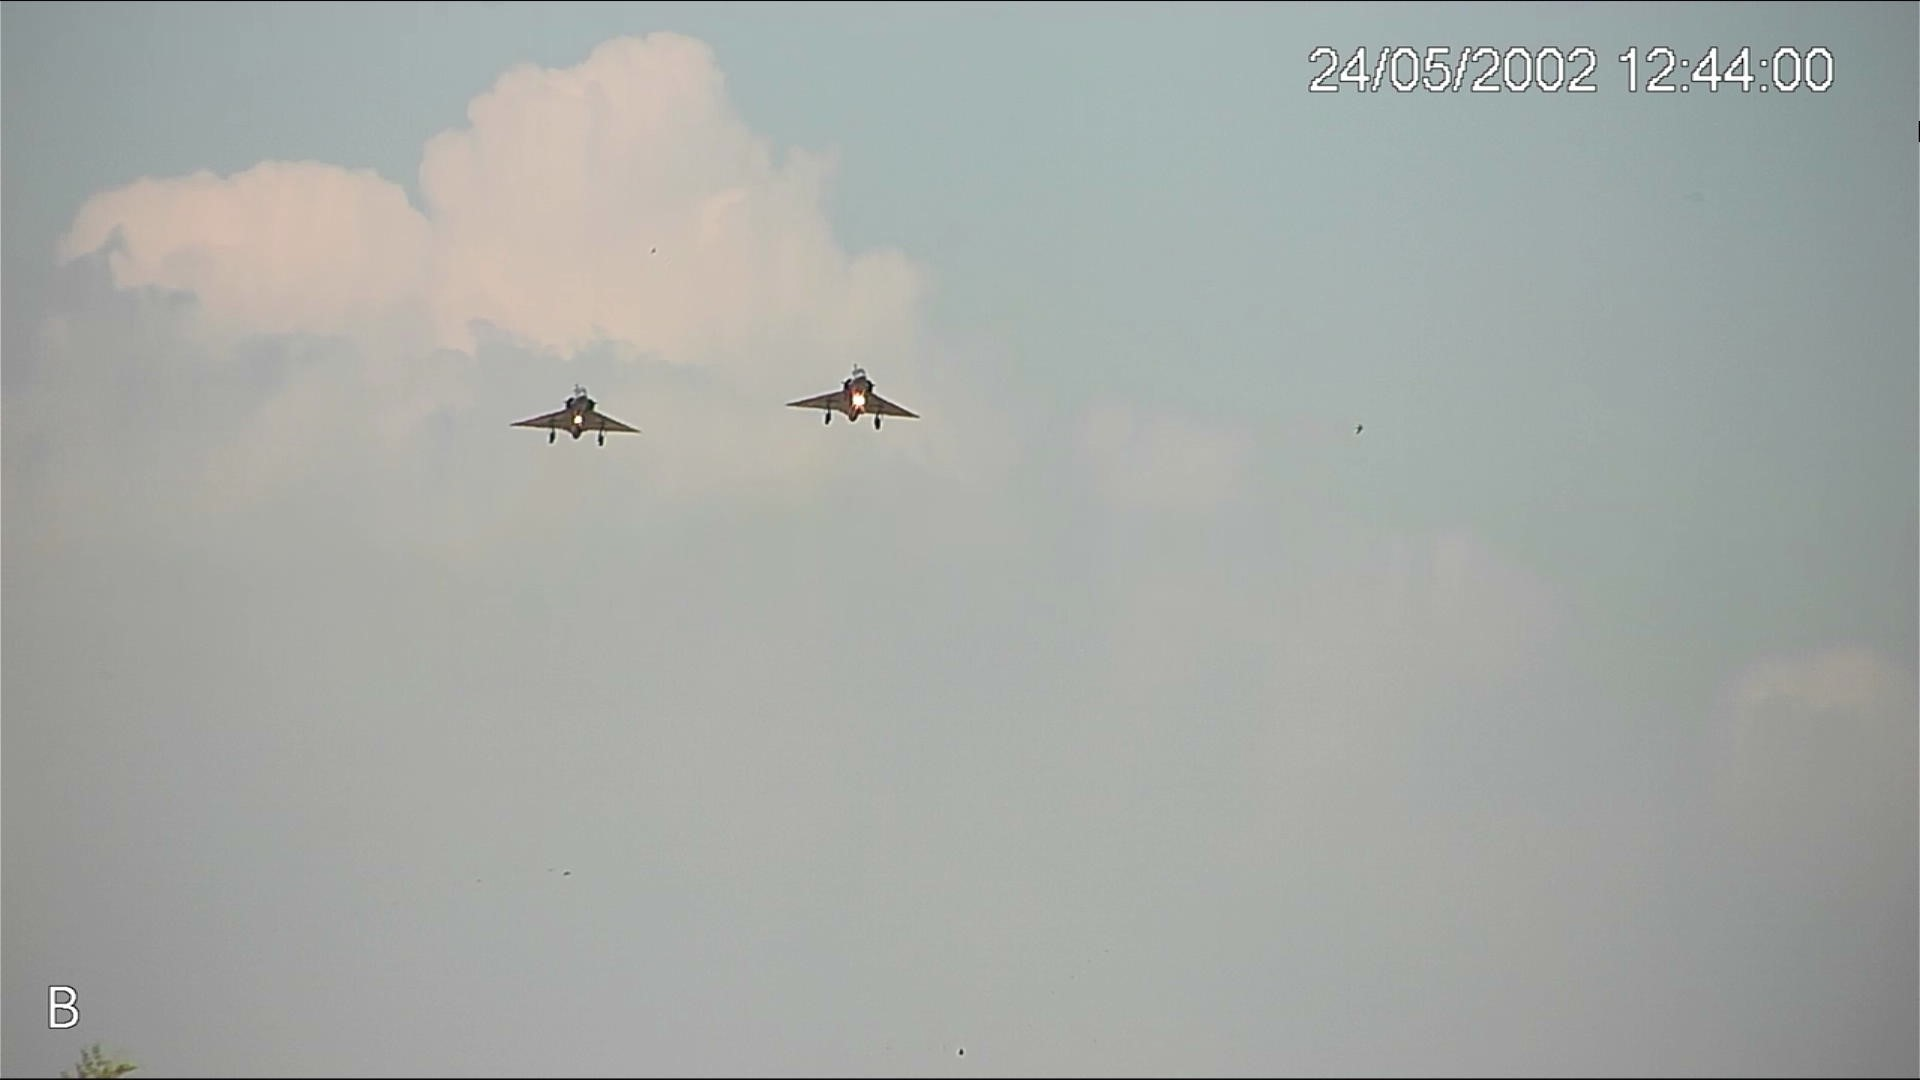SU_30: (782, 364, 923, 433), (506, 381, 644, 448)
